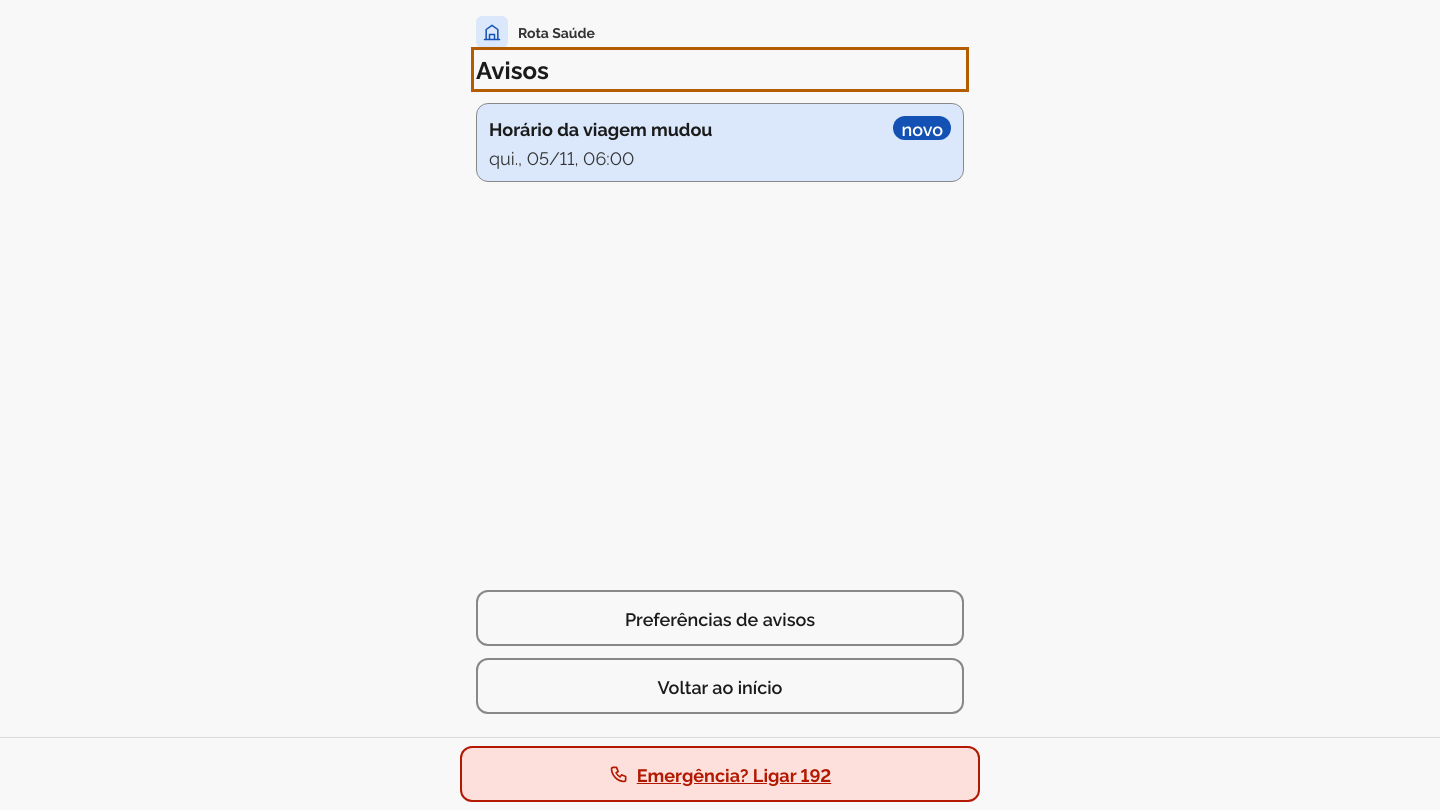
Test case: NoticesStep — aviso de viagem (módulo 30) › sem sanitary_transport na sessão, o aviso continua legível mas sem a dica de Minhas viagens
The width and height of the screenshot is (1440, 810).
Click the button "Horário da viagem mudou novo qui., 05/11, 06:00" at x=601, y=128, box [476,103,964,182]
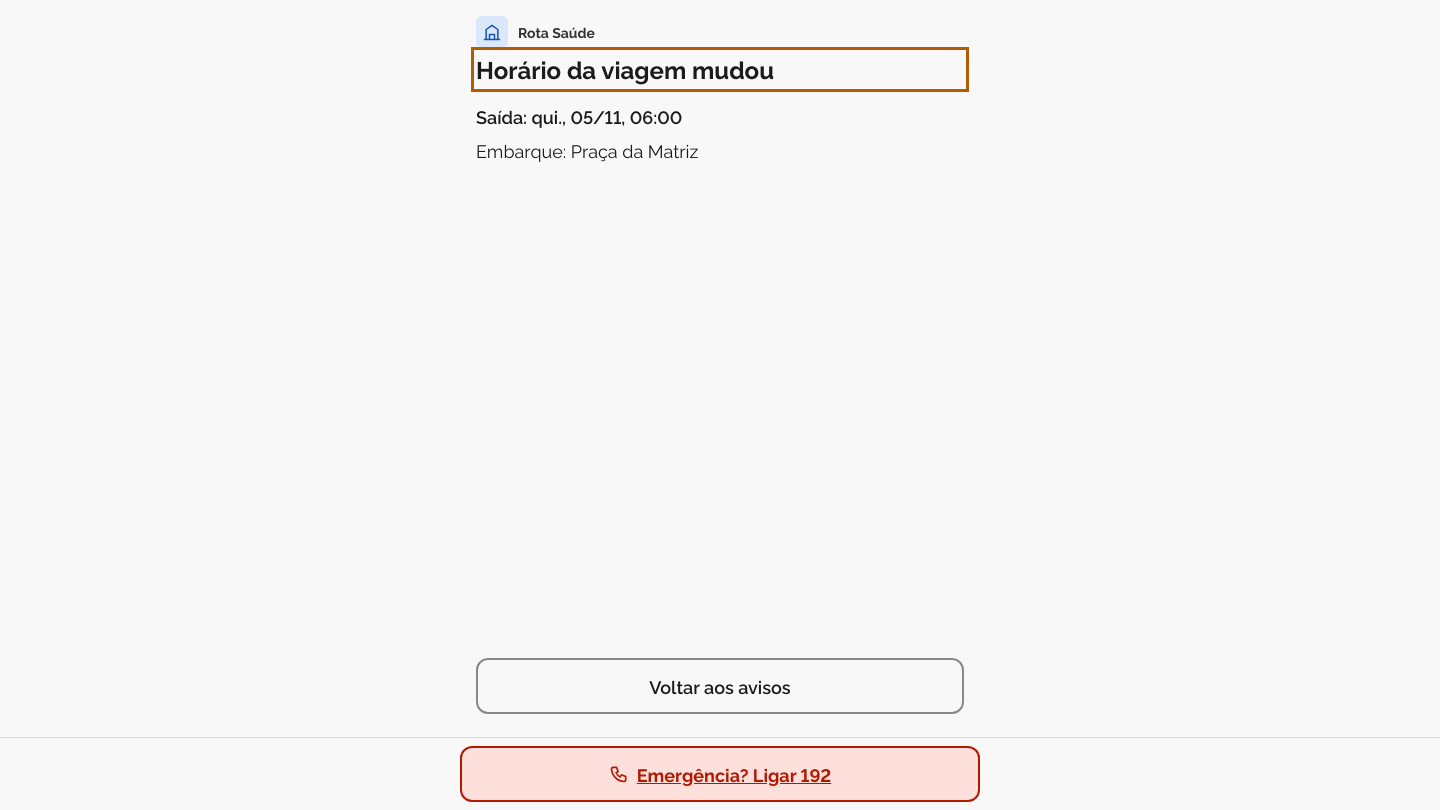
Result: the text "Saída: qui., 05/11, 06:00" is shown at [476,104,682,128]
